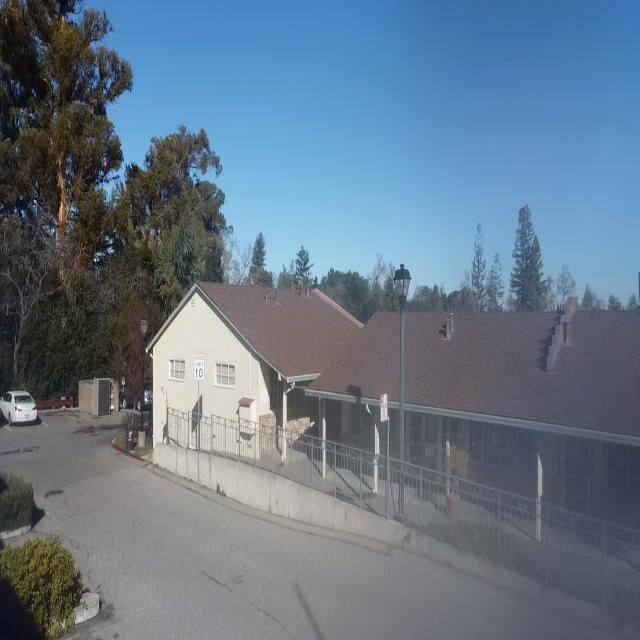Fence: (167, 410, 397, 517)
Pole: (396, 264, 412, 518)
Street Sign: (193, 354, 204, 380), (381, 392, 388, 422), (161, 386, 165, 400)
